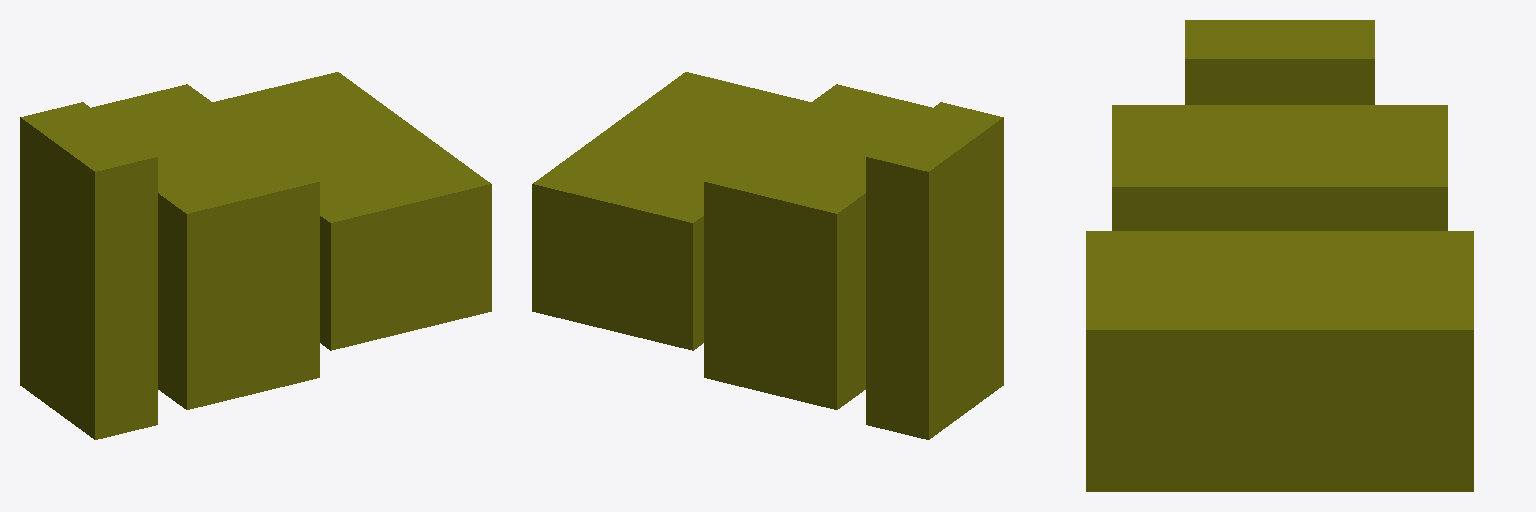
robot.urdf — block:
<robot name="block">
  
  <link name="block1">
    <visual>
      <origin xyz="0.0 0.0 0.0" rpy="0 0 0"/>
      <geometry>
        <box size="0.017111019996631834 0.03549100947795408 0.07024860072637629"/>
      </geometry>
      <material name="dark_yellow">
        <color rgba="0.5 0.5 0.1 1"/>
      </material>
    </visual> 
    <collision>
      <origin xyz="0.0 0.0 0.0" rpy="0 0 0"/>
      <geometry>
        <box size="0.017111019996631834 0.03549100947795408 0.07024860072637629"/>
      </geometry>
    </collision>
    <inertial>
      <mass value="0.3835661301556512"/>
      <inertia ixx="0.00019799931862746447" ixy="0" ixz="0" iyy="0.00016709588301934" iyz="0" izz="4.9620632040195106e-05"/>
    </inertial>
  </link>

  <link name="block2">
    <visual>
      <origin xyz="0.0 0.0 0.0" rpy="0 0 0"/>
      <geometry>
        <box size="0.03663580332591421 0.06310248148864558 0.05140228675305668"/>
      </geometry>
      <material name="dark_yellow">
        <color rgba="0.5 0.5 0.1 1"/>
      </material>
    </visual> 
    <collision>
      <origin xyz="0.0 0.0 0.0" rpy="0 0 0"/>
      <geometry>
        <box size="0.03663580332591421 0.06310248148864558 0.05140228675305668"/>
      </geometry>
    </collision>
    <inertial>
      <mass value="0.3835661301556512"/>
      <inertia ixx="0.0002117322836813547" ixy="0" ixz="0" iyy="0.00012735601097574266" iyz="0" izz="0.00017017887077831433"/>
    </inertial>
  </link>

  <link name="block3">
    <visual>
      <origin xyz="0.0 0.0 0.0" rpy="0 0 0"/>
      <geometry>
        <box size="0.04408531031436315 0.07279231032635691 0.033434606112443636"/>
      </geometry>
      <material name="dark_yellow">
        <color rgba="0.5 0.5 0.1 1"/>
      </material>
    </visual> 
    <collision>
      <origin xyz="0.0 0.0 0.0" rpy="0 0 0"/>
      <geometry>
        <box size="0.04408531031436315 0.07279231032635691 0.033434606112443636"/>
      </geometry>
    </collision>
    <inertial>
      <mass value="2.0271502073586984"/>
      <inertia ixx="0.0010839498747076818" ixy="0" ixz="0" iyy="0.0005171576872891617" iyz="0" izz="0.0012234248532566434"/>
    </inertial>
  </link>

  <joint name="block_link1" type="fixed">
    <parent link="block1"/>
    <child link="block2"/>
    <origin xyz="0.026873411661273022 0.0 0.0"/>
  </joint>

  <joint name="block_link2" type="fixed">
    <parent link="block2"/>
    <child link="block3"/>
    <origin xyz="0.04036055682013868 0.0 0.0"/>
  </joint>

</robot>

--- Facts derived from the render (not from the file) ---
Views: 3 orthographic renders of the robot side by side, from view 1: azimuth 30°, elevation 25°; view 2: azimuth 150°, elevation 25°; view 3: azimuth 270°, elevation 25°.
Robot: block — 3 links, 2 joints (2 fixed); root link block1; default pose: all joints at 0.
Links seen in each view (by area): view 1: block2, block3, block1; view 2: block2, block3, block1; view 3: block3, block2, block1.
Link boxes in pixels (left/top/right/bottom): block2: left=92, top=84, right=319, bottom=409; block3: left=213, top=72, right=491, bottom=350; block1: left=20, top=102, right=157, bottom=439; block2: left=704, top=84, right=931, bottom=409; block3: left=532, top=72, right=810, bottom=350; block1: left=866, top=102, right=1003, bottom=439; block3: left=1086, top=231, right=1473, bottom=491; block2: left=1112, top=105, right=1447, bottom=230; block1: left=1185, top=20, right=1374, bottom=104.
Bounding box of the posed robot: 0.0978 × 0.0728 × 0.0702 m (x, y, z).
Geometry: primitives only (box / cylinder / sphere), no mesh files.